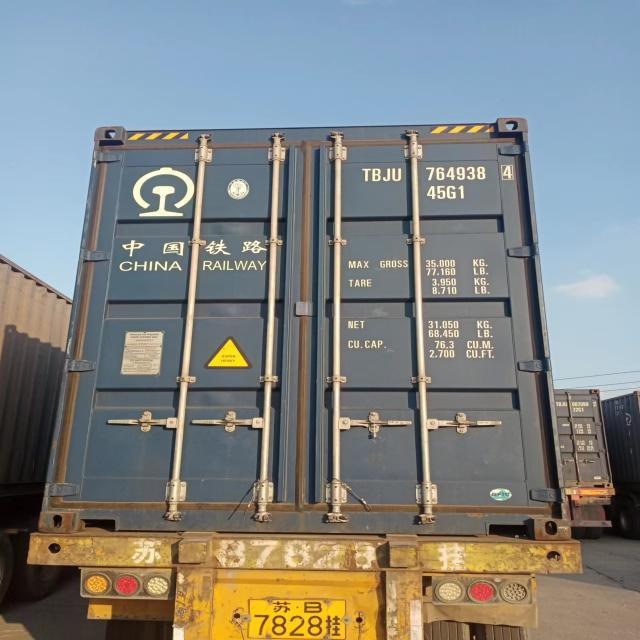ISO: (426, 185, 464, 202)
container_number: (363, 163, 516, 183)
